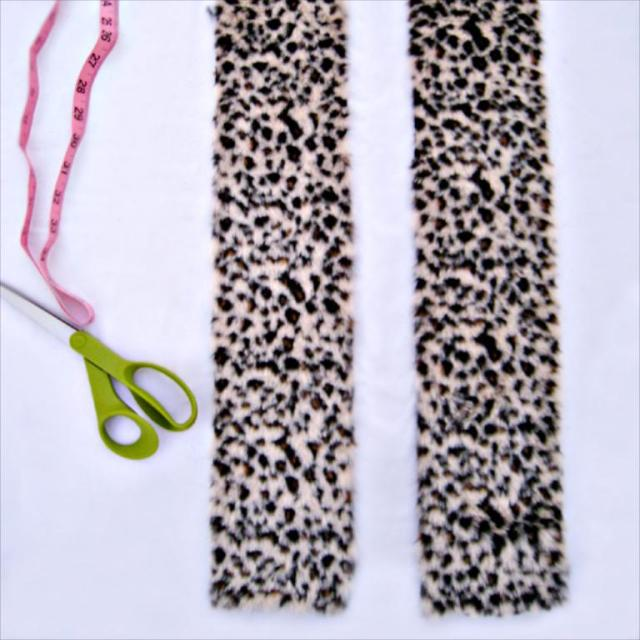scissors: (1, 281, 197, 460)
